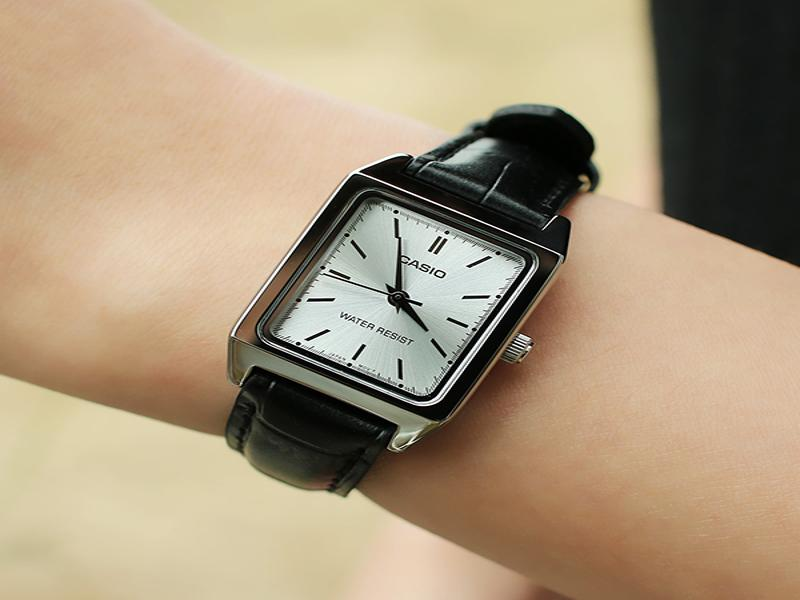watch: (215, 100, 602, 499)
